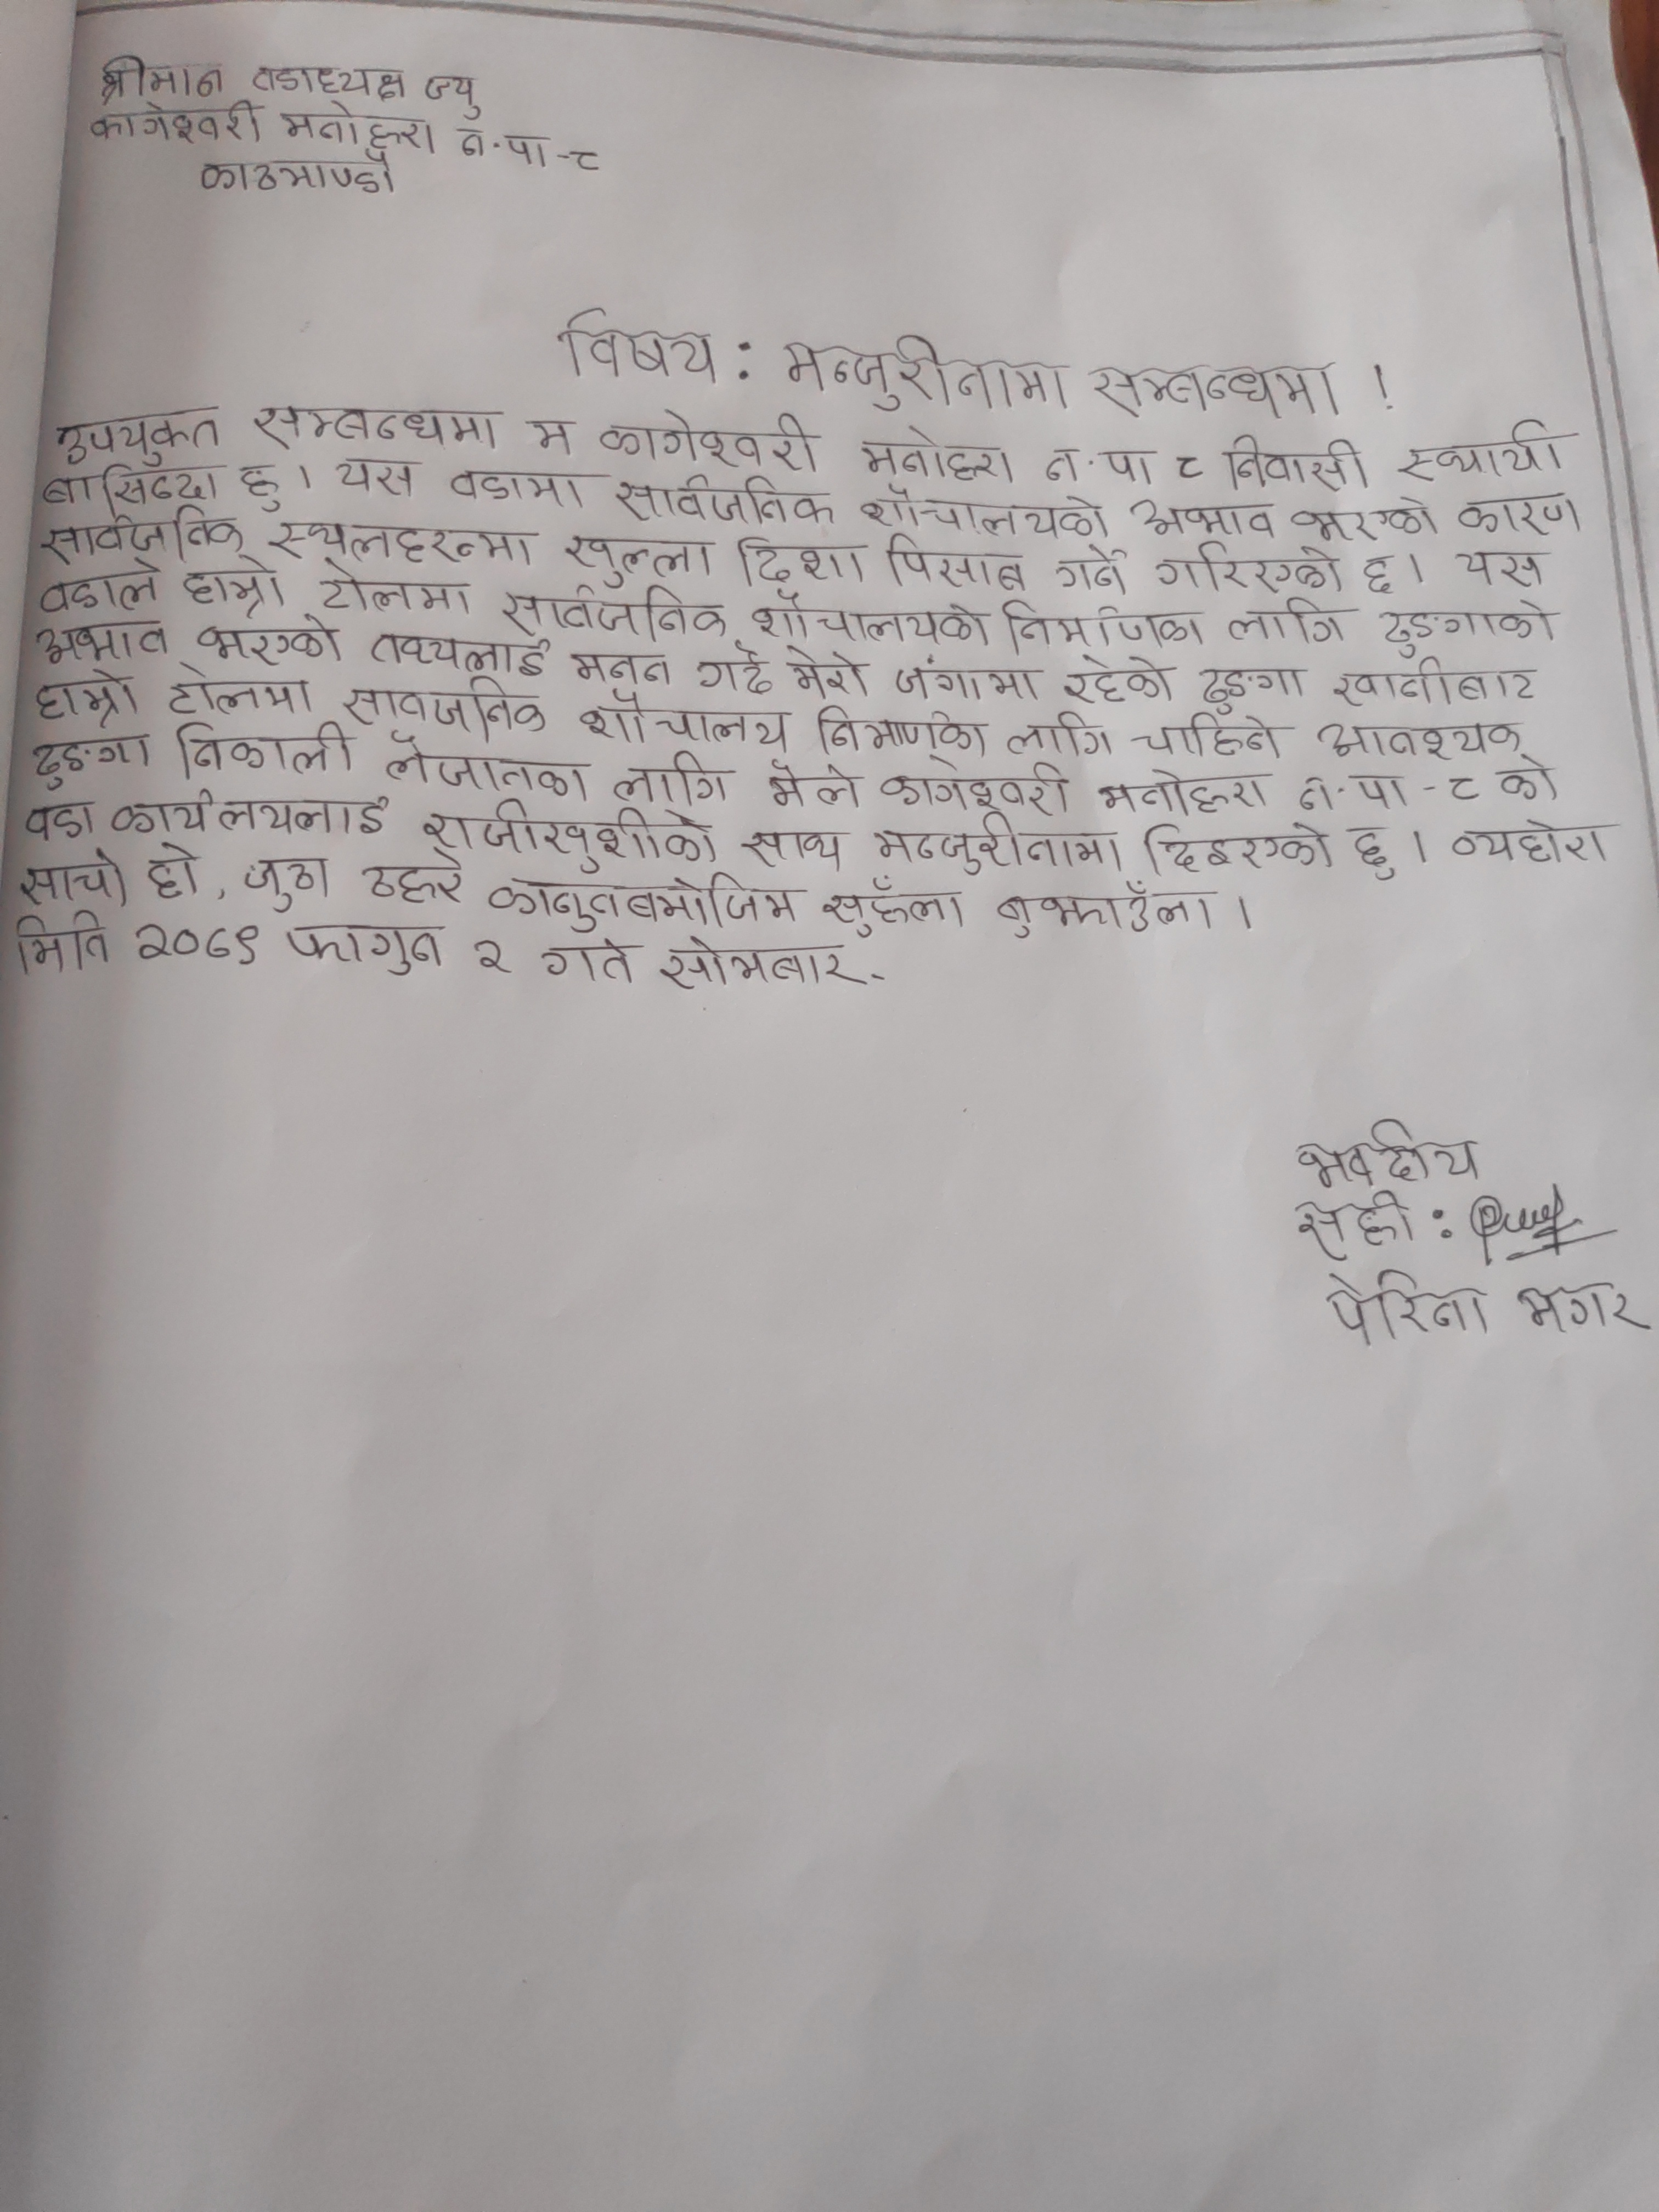text: (775, 333, 1072, 420), (415, 798, 721, 874), (483, 878, 803, 935), (1087, 361, 1344, 423), (267, 516, 549, 571), (378, 732, 598, 803), (746, 589, 1000, 650), (870, 813, 1124, 874), (598, 408, 826, 474), (244, 401, 505, 458), (554, 300, 720, 387), (1295, 1115, 1495, 1186), (106, 794, 389, 845), (497, 578, 732, 637), (856, 484, 1112, 538), (1314, 1270, 1500, 1343), (340, 678, 547, 742), (568, 690, 793, 749), (162, 714, 357, 782), (868, 759, 1087, 819), (193, 146, 408, 204), (990, 888, 1223, 939), (1328, 653, 1544, 707), (615, 474, 836, 526), (652, 941, 871, 993), (852, 418, 1021, 484), (1394, 420, 1568, 482), (1312, 712, 1528, 763), (810, 700, 993, 759), (361, 620, 554, 676), (1375, 599, 1565, 655), (1141, 820, 1337, 874), (40, 512, 254, 561), (272, 99, 443, 160), (1000, 599, 1204, 650), (1094, 765, 1269, 822), (1288, 1191, 1427, 1263), (1150, 543, 1347, 592), (563, 528, 725, 587), (1220, 434, 1371, 496), (1513, 1275, 1650, 1343), (308, 563, 469, 620), (1445, 817, 1626, 867), (197, 613, 350, 672), (871, 533, 1033, 589), (51, 413, 223, 465), (82, 99, 270, 146), (284, 918, 444, 972), (732, 529, 875, 589), (38, 469, 223, 514), (21, 615, 171, 671), (1131, 711, 1295, 759), (157, 674, 322, 721), (33, 561, 169, 617), (812, 888, 971, 935), (889, 658, 1040, 707), (1446, 488, 1588, 540), (1056, 651, 1183, 709), (448, 462, 589, 512), (26, 735, 150, 791), (1288, 765, 1415, 819), (134, 918, 261, 972), (26, 674, 145, 732), (92, 51, 232, 99), (1222, 594, 1351, 646), (1283, 502, 1443, 543), (606, 752, 725, 808), (760, 752, 868, 813), (1129, 495, 1274, 540), (1190, 662, 1312, 714), (240, 848, 335, 914), (7, 859, 138, 906), (10, 911, 112, 970), (246, 63, 406, 99), (183, 559, 286, 615), (1040, 435, 1154, 484), (1007, 716, 1121, 765), (735, 826, 852, 873), (782, 648, 882, 702), (356, 860, 465, 909), (538, 934, 640, 984), (695, 651, 781, 707), (566, 648, 681, 688), (1448, 542, 1547, 587), (138, 841, 206, 900), (455, 124, 551, 165), (1053, 545, 1129, 597), (331, 455, 429, 495), (23, 799, 105, 843), (1344, 822, 1405, 878), (418, 73, 486, 122), (1493, 759, 1567, 805), (465, 928, 518, 982), (230, 463, 282, 514), (526, 415, 577, 463), (1358, 552, 1403, 594), (1436, 768, 1485, 806), (568, 145, 606, 181), (1171, 451, 1208, 484)
